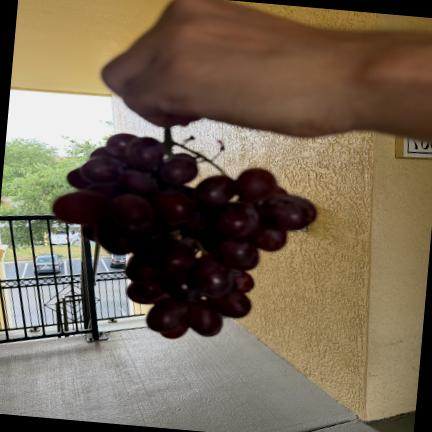grape_cluster: (53, 129, 317, 338)
